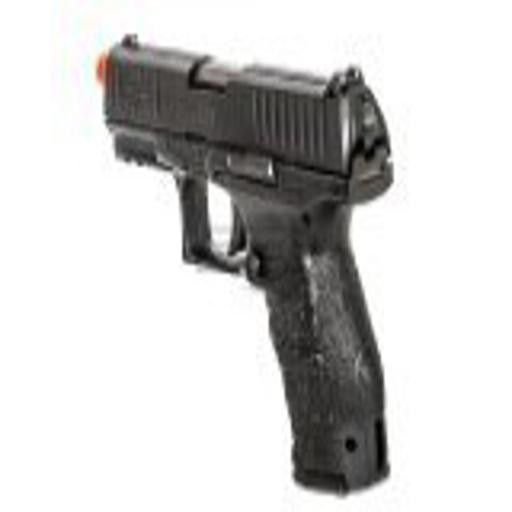Handgun: (91, 28, 399, 502)
